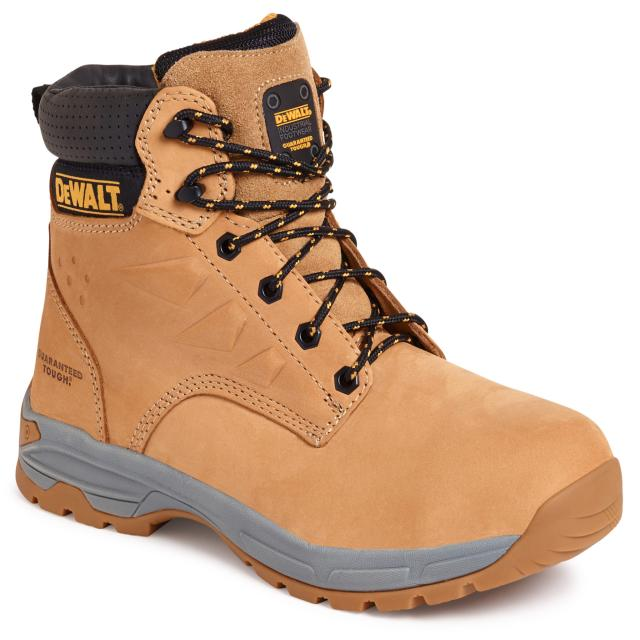boot: (4, 16, 632, 611)
